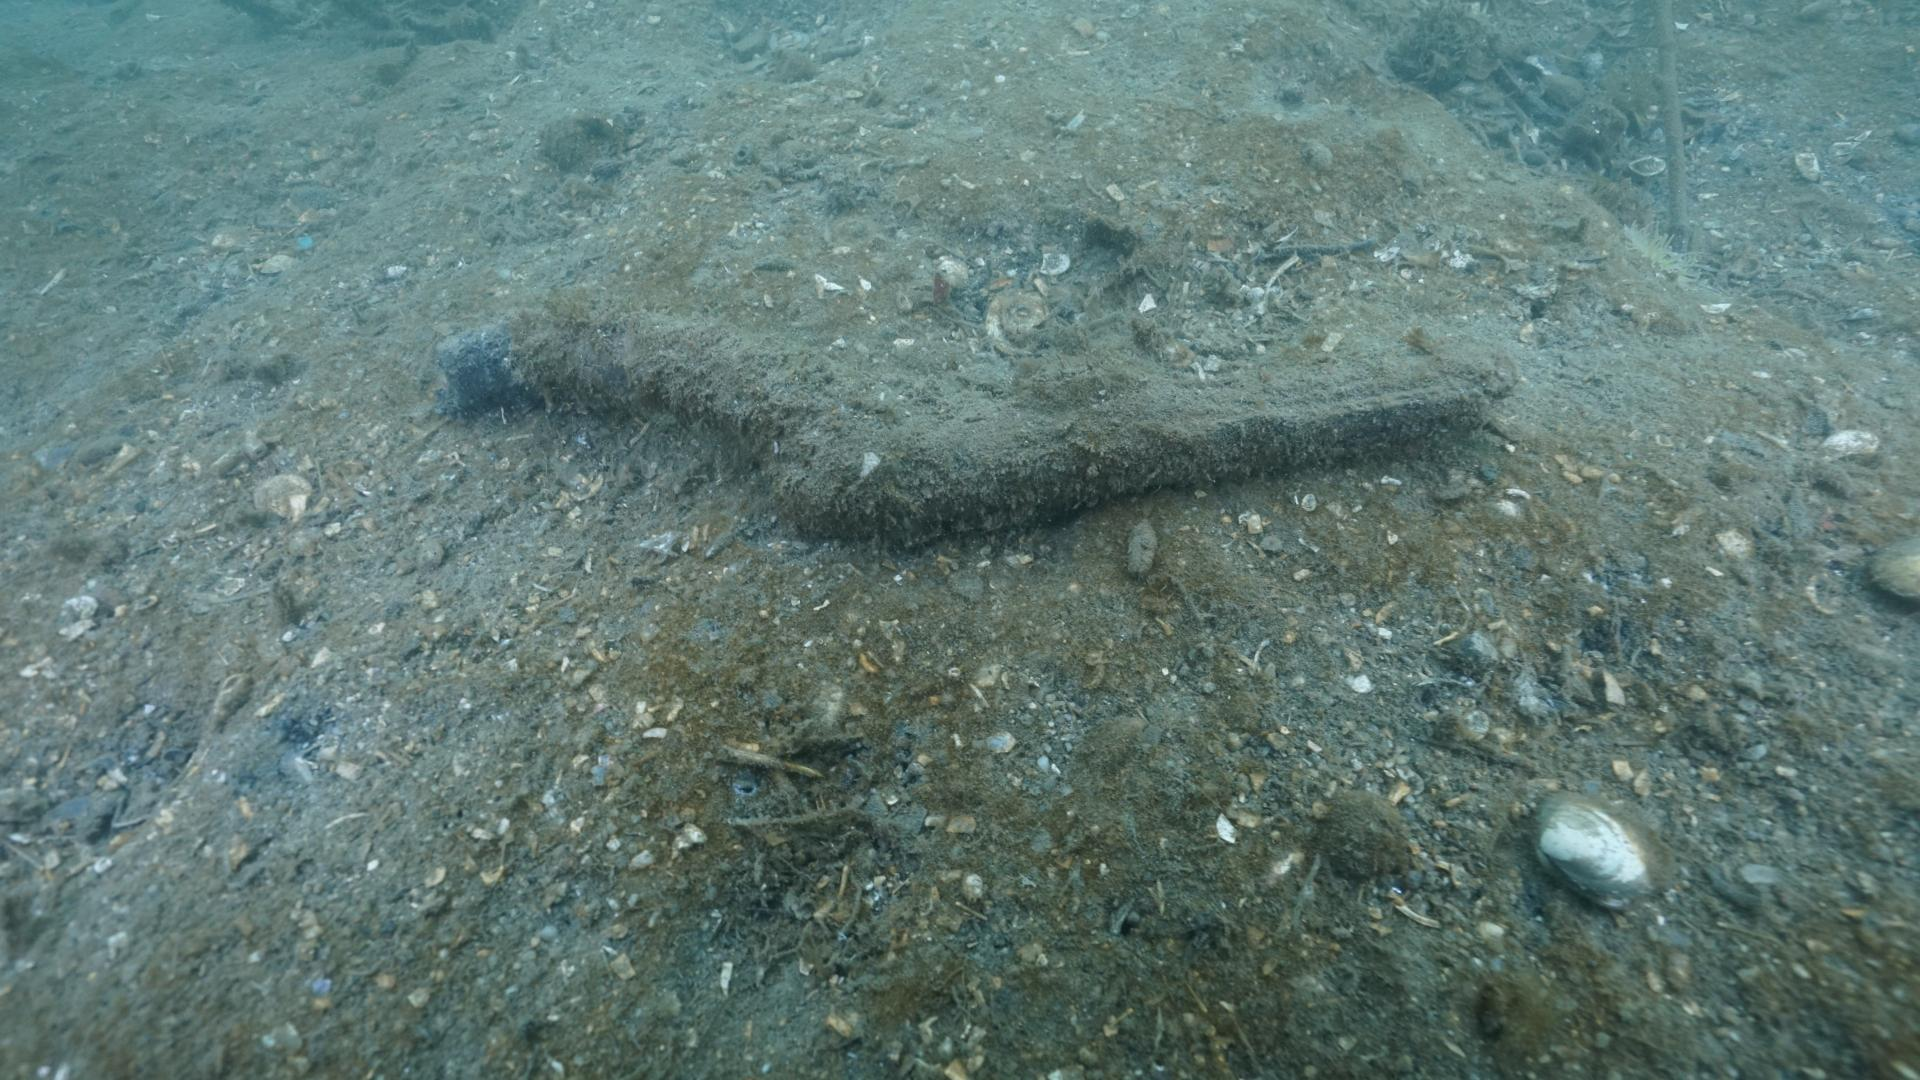wood: (429, 294, 1491, 550)
